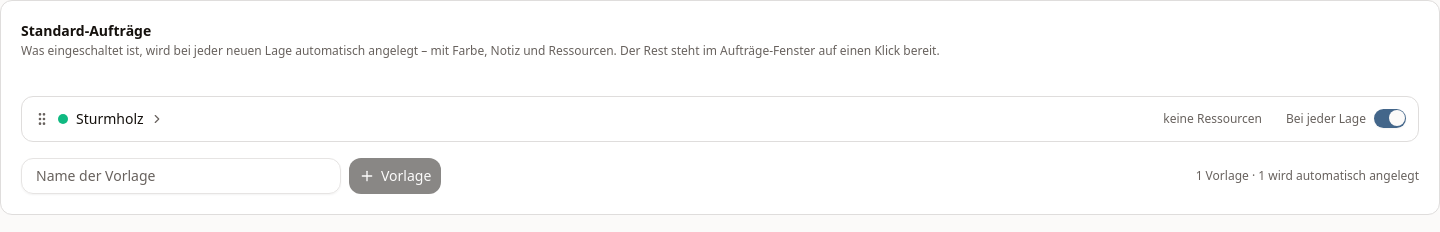
Test: AuftragTemplateSettings › flips a Vorlage between automatic and on-demand
Expected: the button "Sturmholz" is shown, [76,108,164,128]
Expected: the text "Bei jeder Lage" is shown, [1286,110,1366,126]
Click the switch: (1390, 118) [1374,109,1406,128]
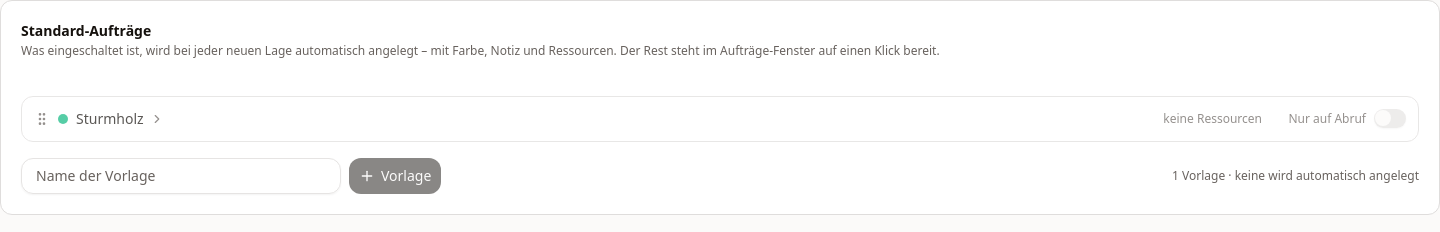
Now the text "Nur auf Abruf" is shown, box [1288,110,1366,126]
